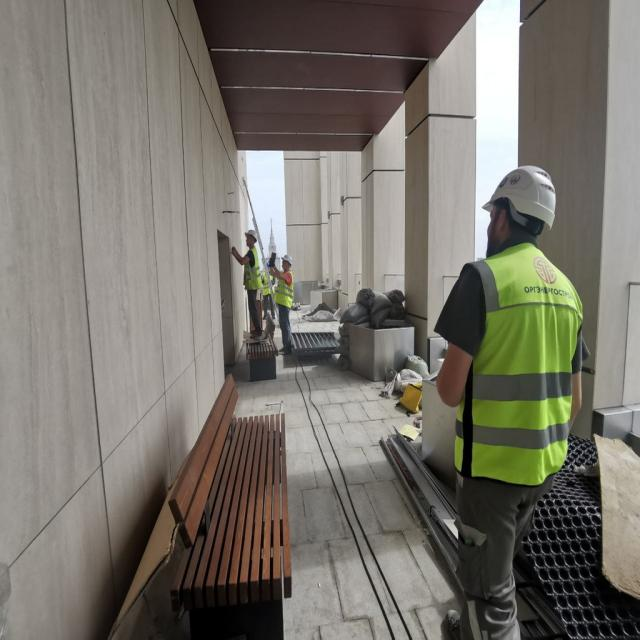Helmet: (482, 164, 560, 256), (243, 229, 258, 250), (282, 254, 294, 271)
